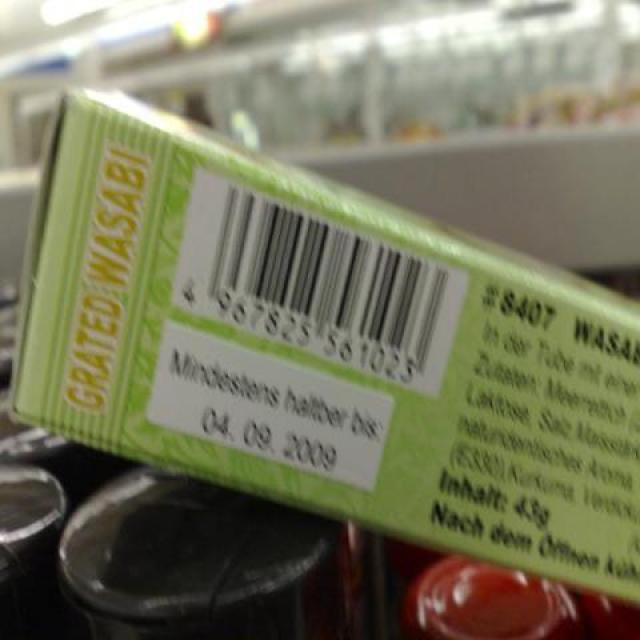Barcode: (173, 167, 472, 401)
